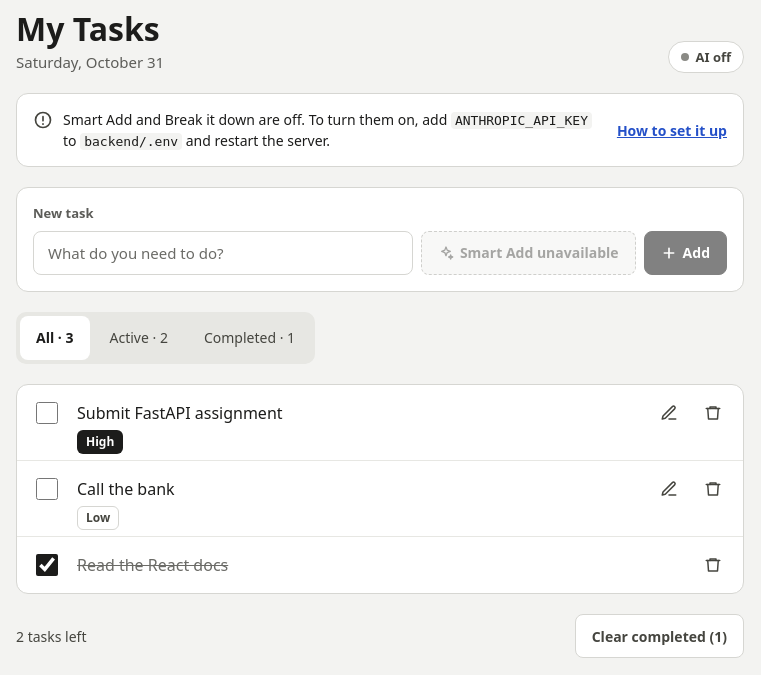
Test case: editing, filters and clear completed › counts tasks left and clears completed ones
The width and height of the screenshot is (761, 675).
expect the text "2 tasks left" is shown: met, box [16,627,86,646]
Click the button "Clear completed (1)" at (659, 636), box [575,614,744,658]
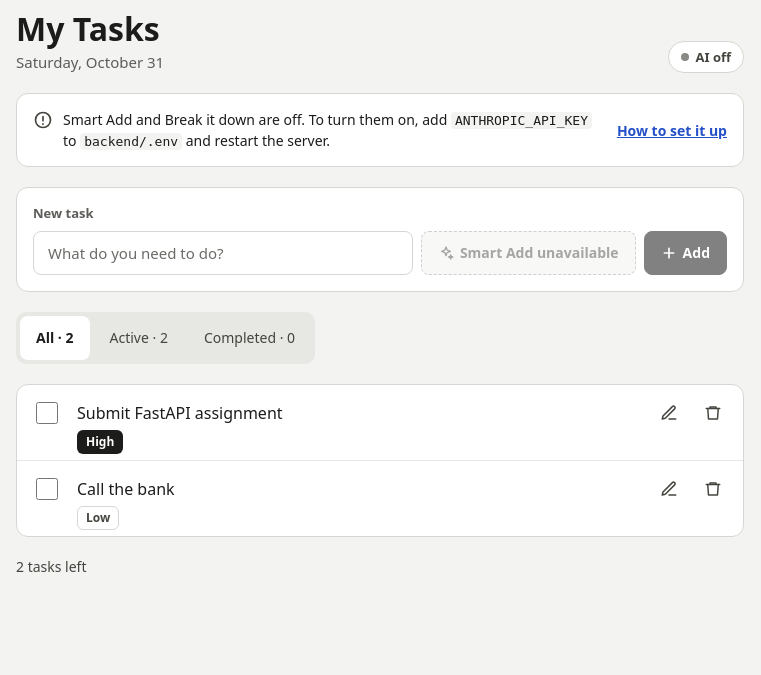
expect the text "Read the React docs" is gone: met
expect the button "Clear completed" is gone: met
